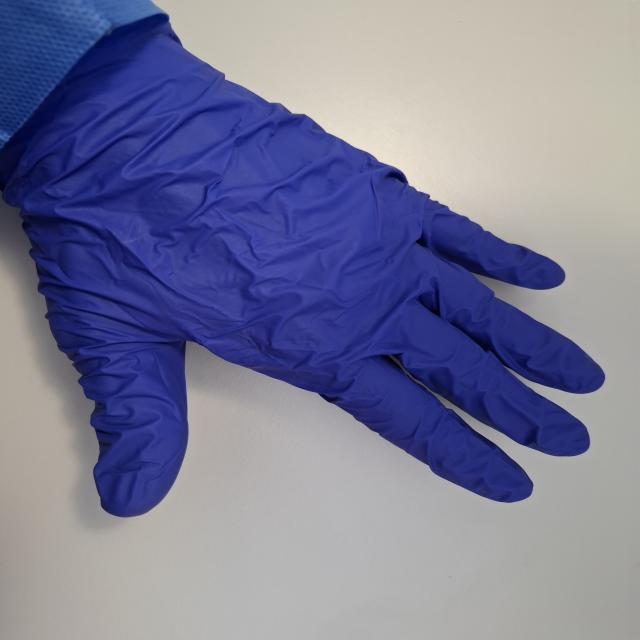glove_on: (0, 9, 607, 517)
